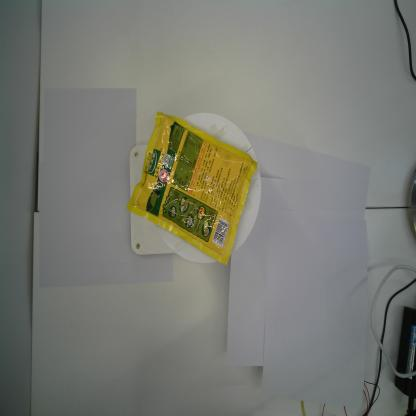Seasoner: (125, 112, 259, 264)
